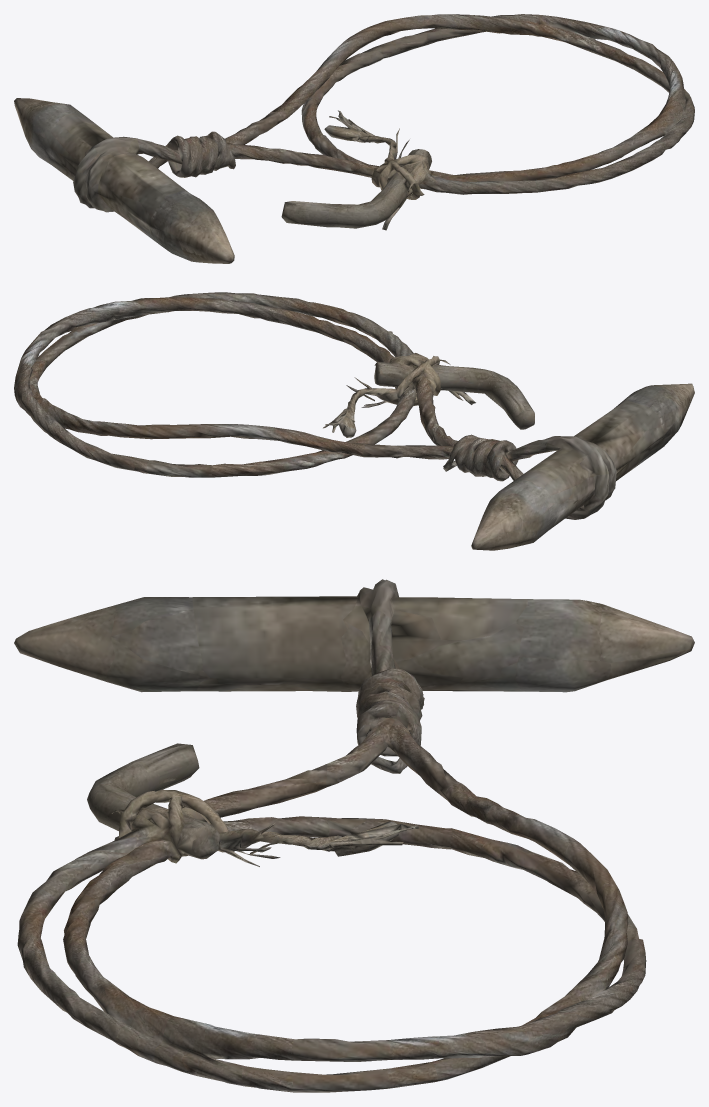
Rendered from snare.92faa9ac.glb.
3 views of the same model, one above another, from view 1: azimuth 30°, elevation 25°; view 2: azimuth 150°, elevation 25°; view 3: azimuth 270°, elevation 25° (orthographic). The views are drawn at different scales.
Visible parts, largest first — view 1: item; view 2: item; view 3: item.
Part boxes in pixels (box(x1,y1,x2,y2)): item: box(14, 14, 694, 263); item: box(14, 292, 694, 550); item: box(14, 579, 694, 1092).
Size of the model in its own units: 0.4589 by 0.0581 by 0.3.
Materials: 1 (1 with a texture image).
